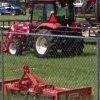Tractor: (8, 5, 86, 60)
